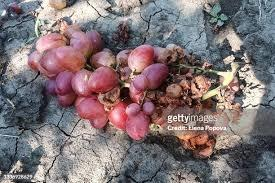Grape Rotten: (27, 19, 170, 141)
